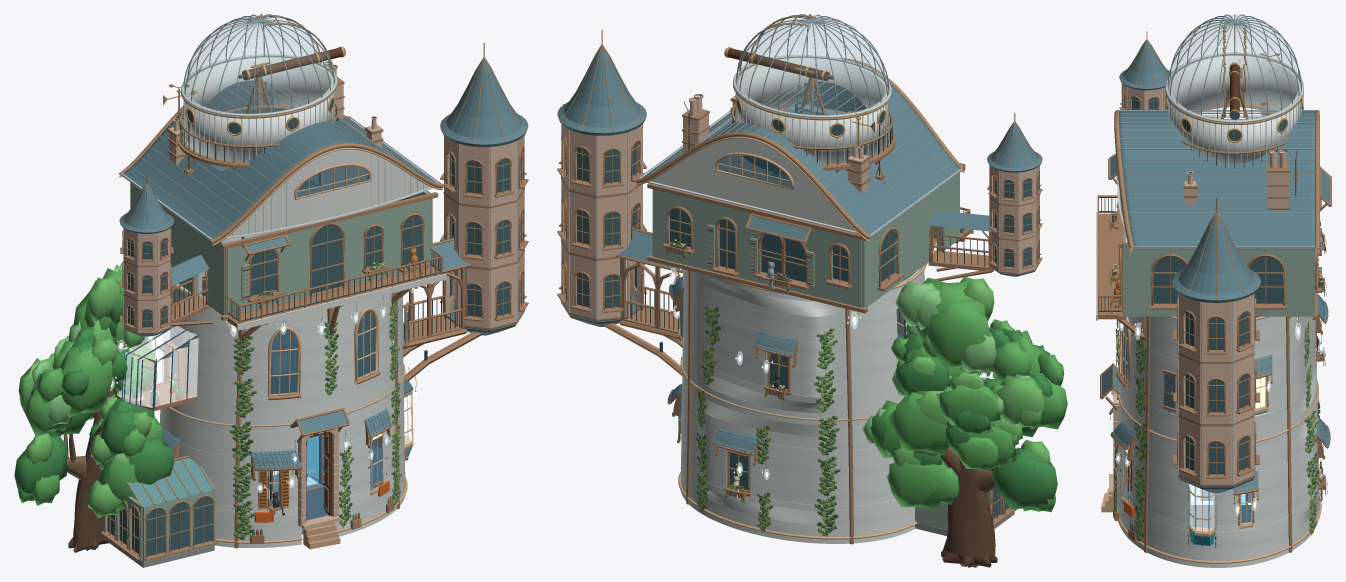
File: mansion-v05-Ca2obm7h.glb
3 views of the same model, side by side, from view 1: azimuth 30°, elevation 25°; view 2: azimuth 150°, elevation 25°; view 3: azimuth 270°, elevation 25° (orthographic).
Visible parts, largest first — view 1: M01_Reuse_TREE_Left_Foliage, M01_Reuse_CURVE_BellGable_SlateRoof, M01_Reuse_ObsDome_Curved, M01_Reuse_CURVE_Observatory_CylindricalDrum, M01_Reuse_CURVE_ArchedGable_PaintedTimber, M01_Tower_WitchHat, M01_Reuse_TREE_Left_Trunk, M01_Conservatory_RoofGlass, M04_WestPassage, M01_GrandBalcony_Deck, M01_Reuse_INT_Slab_Living, M01_Reuse_CURVE_Roof_Soffit (+40 smaller); view 2: M01_Reuse_TREE_Left_Foliage, M01_Reuse_CURVE_BellGable_SlateRoof, M01_Reuse_ObsDome_Curved, M01_Reuse_CURVE_Observatory_CylindricalDrum, M01_Reuse_CURVE_ArchedGable_Rear, M01_Reuse_TREE_Left_Trunk, M01_Tower_WitchHat, M04_WestPassage, M01_Reuse_CURVE_Roof_Soffit, M04_WestTurret_M01_Tower_WitchHat, M01_Reuse_CURVE_Gable_Back_Bargeboard, M03_RearBay_1_Glass (+64 smaller); view 3: M01_Reuse_CURVE_BellGable_SlateRoof, M01_Reuse_CURVE_Observatory_CylindricalDrum, M01_Reuse_ObsDome_Curved, M01_Tower_WitchHat, M01_UpperFloor_Side_L.002, M01_UpperFloor_Side_R.003, M01_GrandBalcony_Deck, M04_WestTurret_M01_Tower_WitchHat, M01_UpperFloor_Side_Glass.004, M01_UpperFloor_Side_Glass.003, M01_Reuse_CURVE_Right_Clapboard_02, M01_Reuse_CURVE_Drum_Cornice_23.685 (+82 smaller).
Boxes of the visible parts, bbox=[...] form: M01_Reuse_TREE_Left_Foliage: bbox=[14, 261, 174, 518]; M01_Reuse_CURVE_BellGable_SlateRoof: bbox=[122, 80, 436, 240]; M01_Reuse_ObsDome_Curved: bbox=[184, 15, 333, 113]; M01_Reuse_CURVE_Observatory_CylindricalDrum: bbox=[184, 56, 333, 161]; M01_Reuse_CURVE_ArchedGable_PaintedTimber: bbox=[228, 147, 429, 236]; M01_Tower_WitchHat: bbox=[440, 60, 528, 146]; M01_Reuse_TREE_Left_Trunk: bbox=[63, 346, 156, 552]; M01_Conservatory_RoofGlass: bbox=[128, 457, 215, 507]; M04_WestPassage: bbox=[170, 254, 213, 326]; M01_GrandBalcony_Deck: bbox=[226, 267, 440, 327]; M01_Reuse_INT_Slab_Living: bbox=[267, 435, 382, 520]; M01_Reuse_CURVE_Roof_Soffit: bbox=[121, 118, 439, 240]; M01_Reuse_TREE_Left_Foliage: bbox=[862, 276, 1067, 512]; M01_Reuse_CURVE_BellGable_SlateRoof: bbox=[642, 81, 961, 238]; M01_Reuse_ObsDome_Curved: bbox=[737, 15, 887, 114]; M01_Reuse_CURVE_Observatory_CylindricalDrum: bbox=[736, 57, 888, 163]; M01_Reuse_CURVE_ArchedGable_Rear: bbox=[650, 136, 854, 230]; M01_Reuse_TREE_Left_Trunk: bbox=[941, 368, 997, 567]; M01_Tower_WitchHat: bbox=[557, 47, 646, 135]; M04_WestPassage: bbox=[928, 210, 993, 280]; M01_Reuse_CURVE_Roof_Soffit: bbox=[639, 112, 962, 236]; M04_WestTurret_M01_Tower_WitchHat: bbox=[987, 123, 1042, 172]; M01_Reuse_CURVE_Gable_Back_Bargeboard: bbox=[635, 132, 871, 239]; M03_RearBay_1_Glass: bbox=[761, 234, 806, 282]; M01_Reuse_CURVE_BellGable_SlateRoof: bbox=[1119, 111, 1316, 249]; M01_Reuse_CURVE_Observatory_CylindricalDrum: bbox=[1168, 55, 1300, 163]; M01_Reuse_ObsDome_Curved: bbox=[1169, 15, 1300, 119]; M01_Tower_WitchHat: bbox=[1172, 215, 1260, 302]; M01_UpperFloor_Side_L.002: bbox=[1123, 242, 1152, 316]; M01_UpperFloor_Side_R.003: bbox=[1284, 249, 1313, 316]; M01_GrandBalcony_Deck: bbox=[1097, 213, 1126, 319]; M04_WestTurret_M01_Tower_WitchHat: bbox=[1119, 41, 1171, 90]; M01_UpperFloor_Side_Glass.004: bbox=[1249, 256, 1282, 303]; M01_UpperFloor_Side_Glass.003: bbox=[1153, 256, 1185, 303]; M01_Reuse_CURVE_Right_Clapboard_02: bbox=[1147, 534, 1288, 555]; M01_Reuse_CURVE_Drum_Cornice_23.685: bbox=[1165, 52, 1303, 122].
Bounding box in the file's own units: 36.61 × 34.98 × 14.88.
